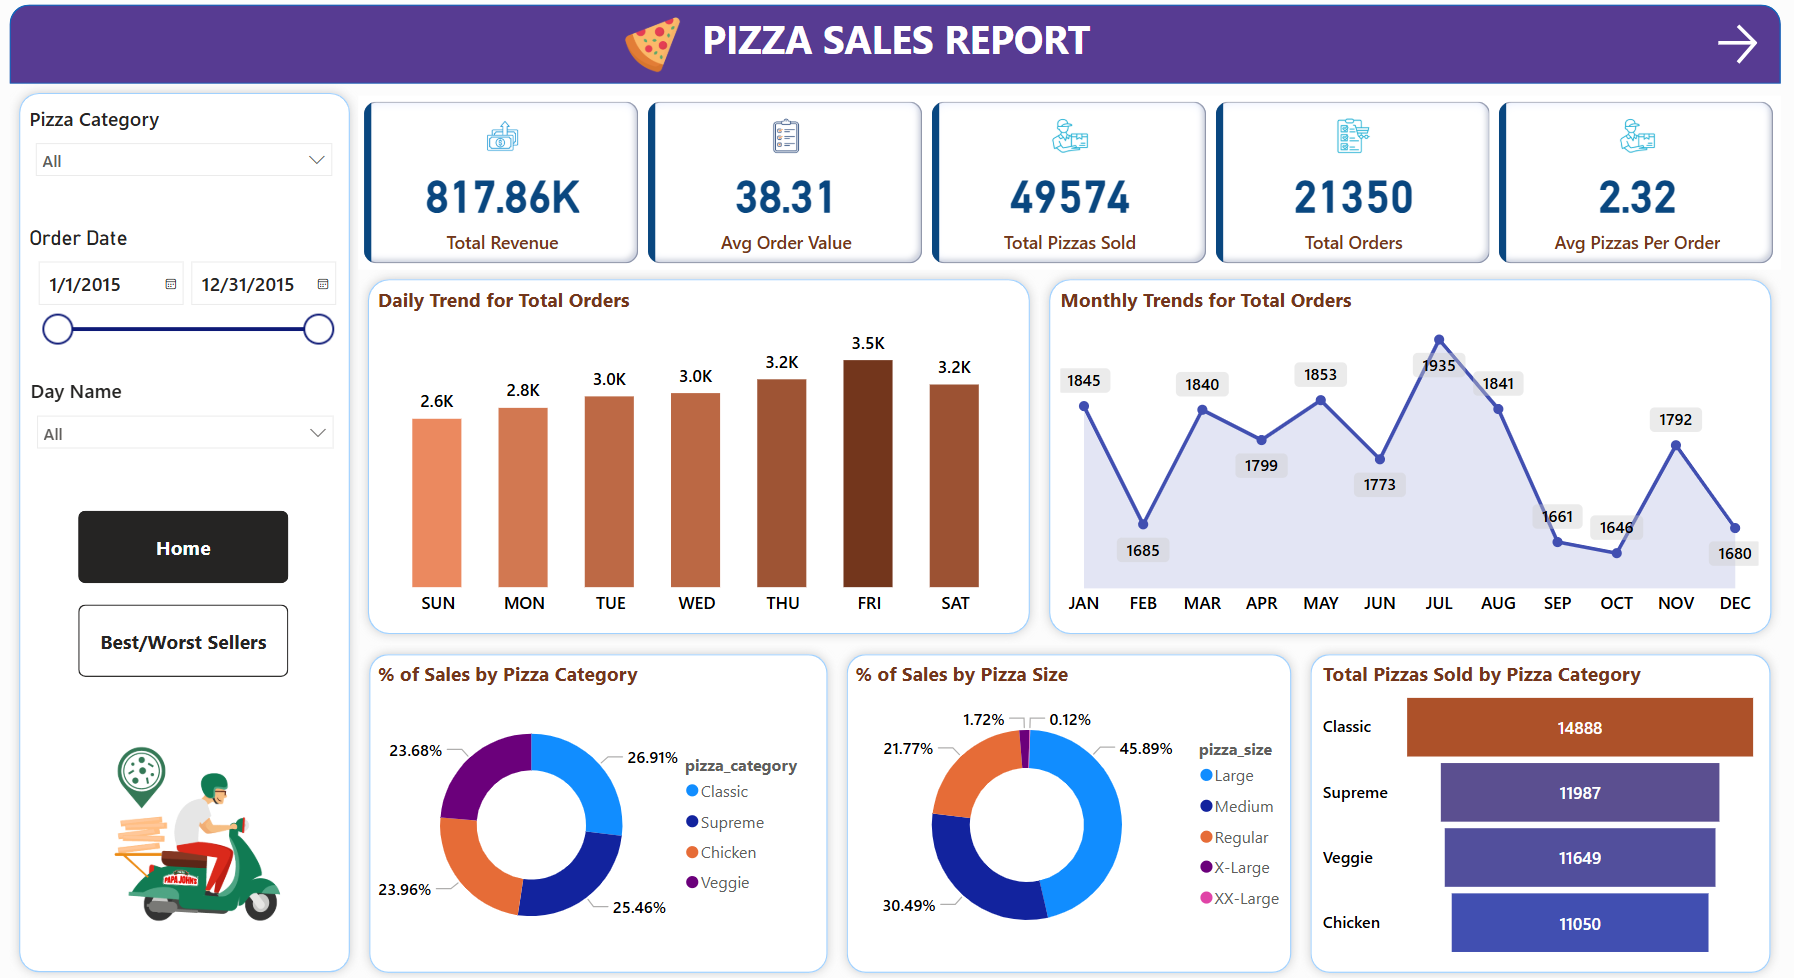

The dashboard page shown, as its layout file describes it:
{"tool":"powerbi","page":{"name":"Home","canvas":[1500,820],"ordinal":0},"visuals":[{"type":"shape","box":[14.3,75.7,290,744.3],"z":0},{"type":"cardVisual","fields":{"Data":["pizza_sales.Total Revenue","pizza_sales.Avg Order Value","pizza_sales.Total Pizzas Sold","pizza_sales.Total Orders","pizza_sales.Avg Pizzas Per Order"]},"box":[302.9,85.7,1178.6,144.3],"z":1000},{"type":"shape","box":[14.3,10,1467.1,65.7],"z":2000},{"type":"textbox","box":[547.1,12.9,404.3,65.7],"z":3000},{"type":"image","box":[518.6,7.1,57.1,72.9],"z":4000},{"type":"shape","box":[302.9,230,564.3,310],"z":5000},{"type":"columnChart","title":"Daily Trend for Total Orders","fields":{"Category":["pizza_sales.Order Day"],"Y":["pizza_sales.Total Orders"]},"box":[314.3,242.9,538.6,282.9],"z":6000},{"type":"shape","box":[867.1,230,614.3,310],"z":7000},{"type":"areaChart","title":"Monthly Trends for Total Orders","fields":{"Category":["pizza_sales.Order Month"],"Y":["pizza_sales.Total Orders"]},"box":[880,242.9,588.6,282.9],"z":8000},{"type":"shape","box":[304.3,540,395.7,280],"z":9000},{"type":"shape","box":[700,540,384.3,280],"z":10000},{"type":"shape","box":[1084.3,540,397.1,280],"z":11000},{"type":"donutChart","title":"% of Sales by Pizza Category","fields":{"Category":["pizza_sales.pizza_category"],"Y":["pizza_sales.Total Revenue"]},"box":[314.3,552.9,374.3,252.9],"z":12000},{"type":"donutChart","title":"% of Sales by Pizza Size","fields":{"Y":["pizza_sales.Total Revenue"],"Category":["pizza_sales.pizza_size"]},"box":[710,552.9,374.3,252.9],"z":13000},{"type":"funnel","title":"Total Pizzas Sold by Pizza Category","fields":{"Category":["pizza_sales.pizza_category"],"Y":["pizza_sales.Total Pizzas Sold"]},"box":[1097.1,552.9,371.4,252.9],"z":14000},{"type":"slicer","title":"Pizza Category","fields":{"Values":["pizza_sales.pizza_category"]},"box":[25.7,92.9,265.7,82.9],"z":15000},{"type":"slicer","title":"Order Date","fields":{"Values":["pizza_sales.order_date"]},"box":[25.7,193.7,265.7,107.1],"z":16000},{"type":"slicer","title":"Day Name","fields":{"Values":["Sort Reference Table.Week Name"]},"box":[27.1,318.9,265.7,92.9],"z":17000},{"type":"pageNavigator","box":[71.4,429.7,174.3,60],"z":18000},{"type":"pageNavigator","box":[71.4,507.7,174.3,60],"z":19000},{"type":"image","box":[27.1,585.7,264.3,220],"z":19001},{"type":"actionButton","box":[1420,21.4,48.6,42.9],"z":19002}]}

Visuals, with their boxes in screenshot pixels (x1, y1, x2, y2), scaled from the page's 1500x820 canvas onto the 1794x978 screenshot:
shape: pyautogui.locateOnScreen(17, 90, 364, 977)
cardVisual - pizza_sales.Total Revenue x pizza_sales.Avg Order Value: pyautogui.locateOnScreen(362, 102, 1772, 274)
shape: pyautogui.locateOnScreen(17, 12, 1772, 90)
textbox: pyautogui.locateOnScreen(654, 15, 1138, 94)
image: pyautogui.locateOnScreen(620, 8, 689, 95)
shape: pyautogui.locateOnScreen(362, 274, 1037, 644)
"Daily Trend for Total Orders" columnChart: pyautogui.locateOnScreen(376, 290, 1020, 627)
shape: pyautogui.locateOnScreen(1037, 274, 1772, 644)
"Monthly Trends for Total Orders" areaChart: pyautogui.locateOnScreen(1052, 290, 1756, 627)
shape: pyautogui.locateOnScreen(364, 644, 837, 977)
shape: pyautogui.locateOnScreen(837, 644, 1297, 977)
shape: pyautogui.locateOnScreen(1297, 644, 1772, 977)
"% of Sales by Pizza Category" donutChart: pyautogui.locateOnScreen(376, 659, 824, 961)
"% of Sales by Pizza Size" donutChart: pyautogui.locateOnScreen(849, 659, 1297, 961)
"Total Pizzas Sold by Pizza Category" funnel: pyautogui.locateOnScreen(1312, 659, 1756, 961)
"Pizza Category" slicer: pyautogui.locateOnScreen(31, 111, 349, 210)
"Order Date" slicer: pyautogui.locateOnScreen(31, 231, 349, 359)
"Day Name" slicer: pyautogui.locateOnScreen(32, 380, 350, 491)
pageNavigator: pyautogui.locateOnScreen(85, 512, 294, 584)
pageNavigator: pyautogui.locateOnScreen(85, 606, 294, 677)
image: pyautogui.locateOnScreen(32, 699, 349, 961)
actionButton: pyautogui.locateOnScreen(1698, 26, 1756, 77)
